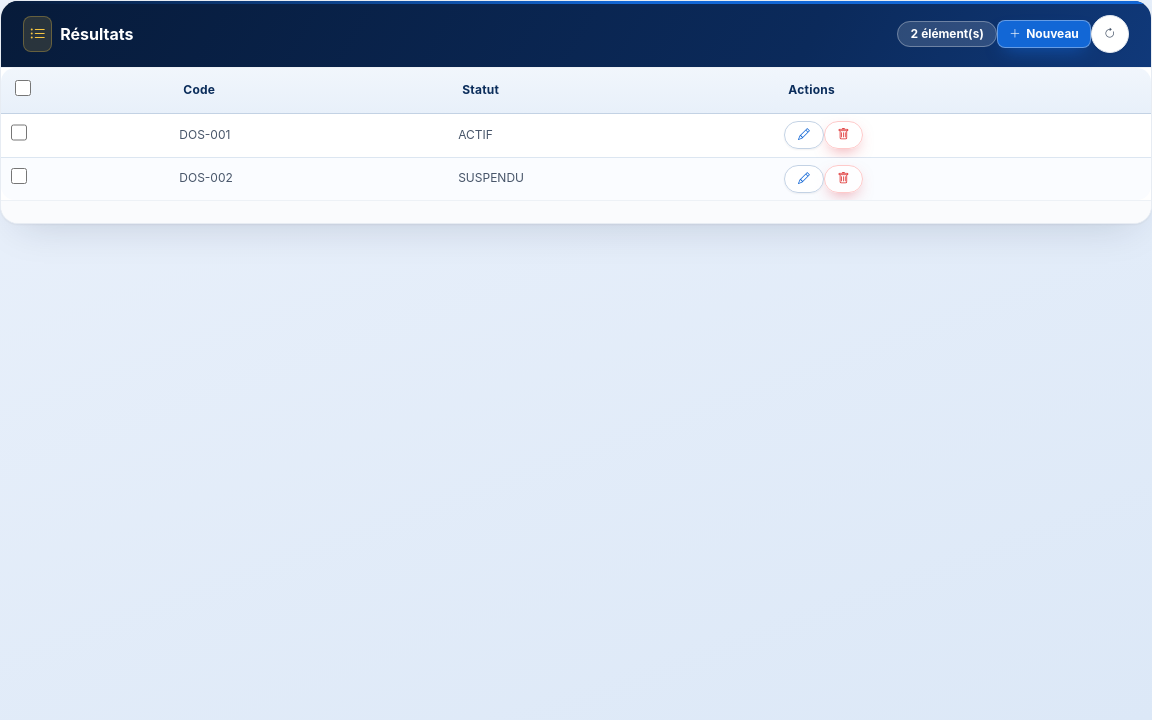
Scenario: gestion (CRUD) pilotée par le descripteur › « Nouveau » ouvre le formulaire et crée réellement la ligne
Expected: the text "DOS-001" is shown, [170,114,449,158]
Click the button "Nouveau": [1044, 34] box [997,20,1091,48]
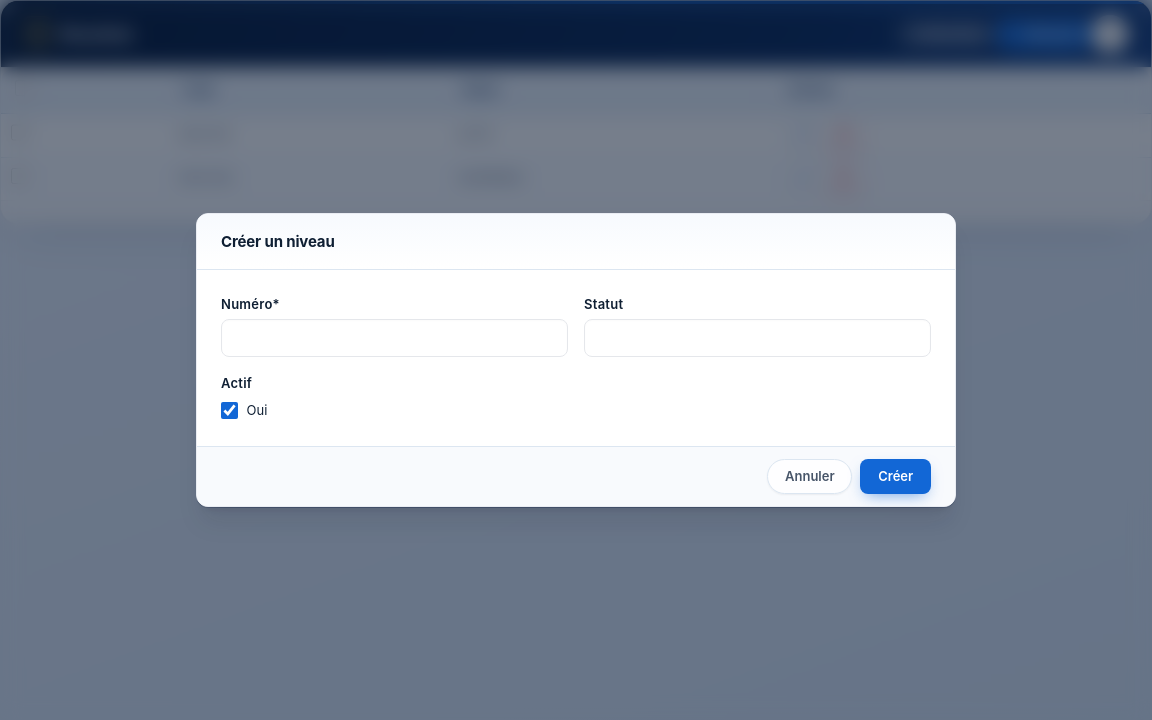
Expected: the heading "Créer un niveau" is shown, [221,230,335,253]
In the field with test id "champ-numero": [394, 338] box [221,319,568,357], type "DOS-009"
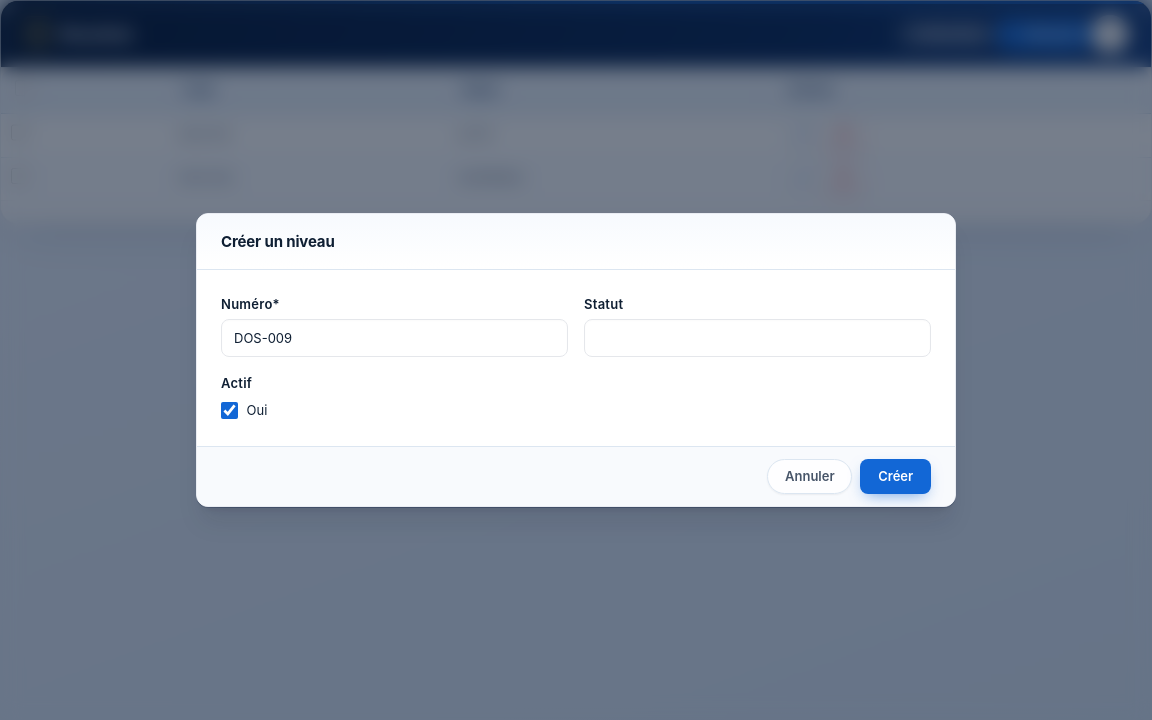
In the field with test id "champ-statut": [758, 338] box [584,319,931,357], type "ACTIF"
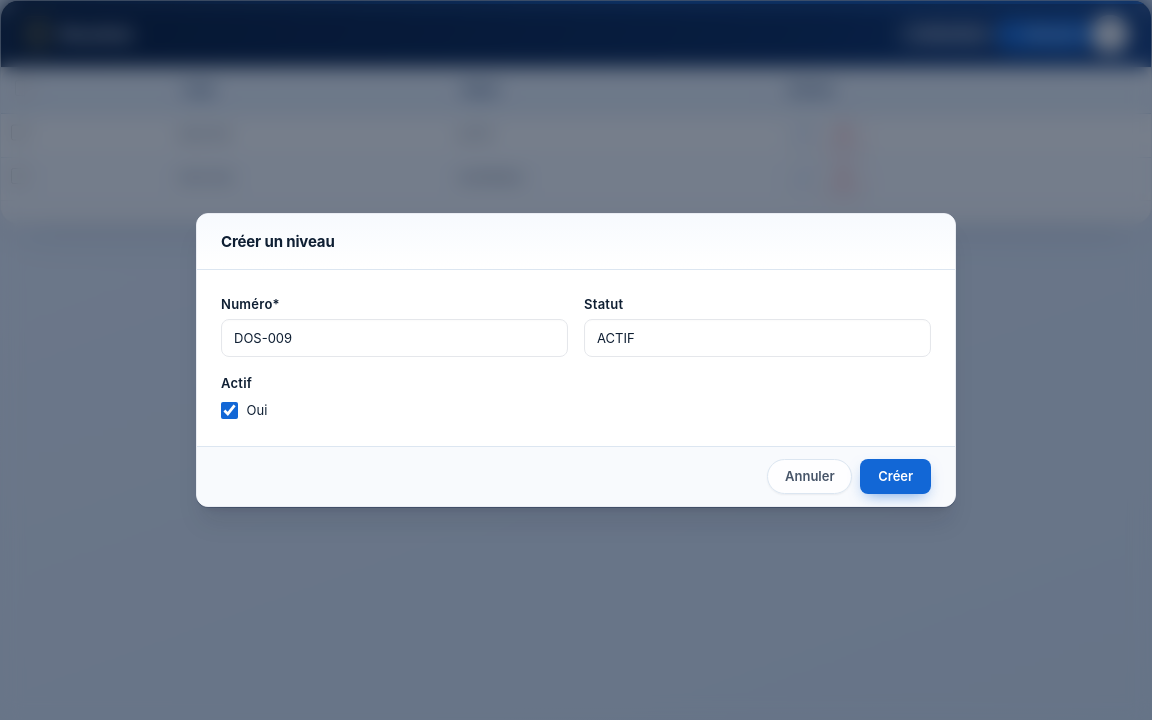
Click the button with test id "form-enregistrer": [896, 477] box [860,459,931,494]
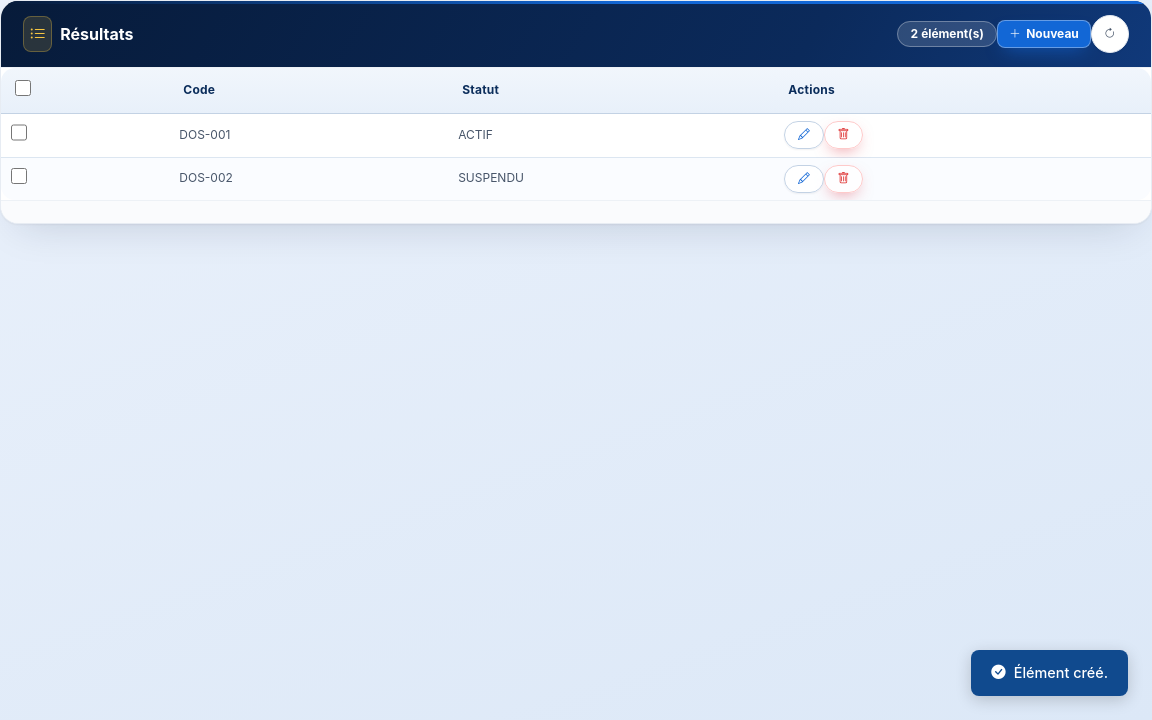
Expected: the heading "Créer un niveau" is gone
